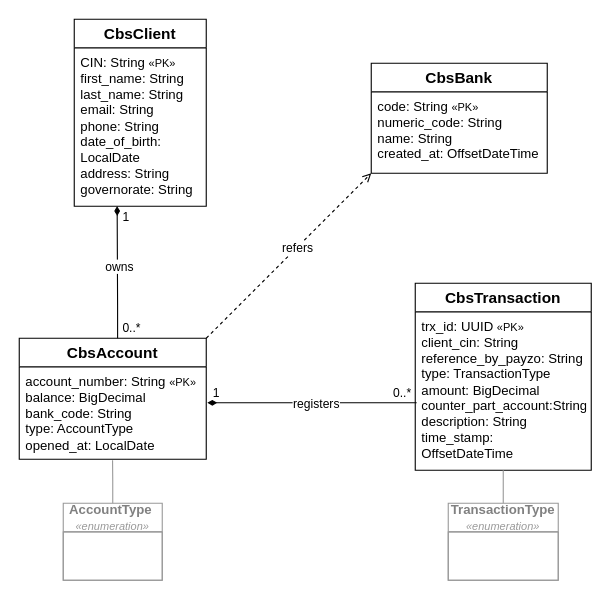
The diagram is 611 pixels wide and 603 high, and some of its shapes have lost their labels. Each missing label, with the centre of its shape:
"CHECKING SAVINGS" belongs at point (112, 555).
"DEBIT CREDIT" belongs at point (502, 555).
